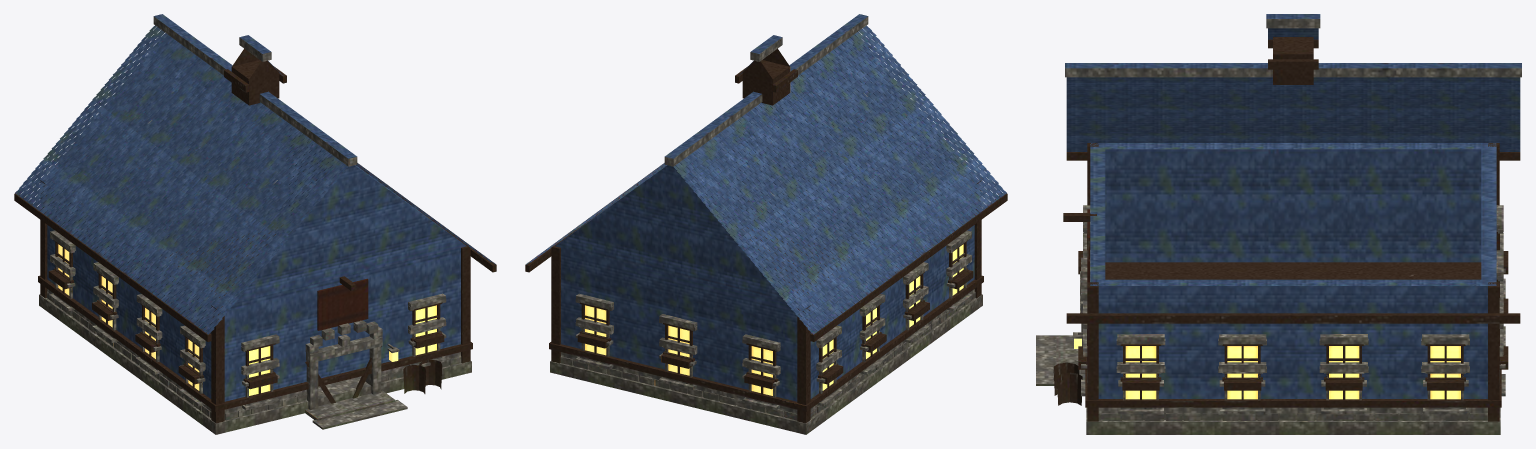
File: bld_barn_card.glb
3 views of the same model, side by side, from view 1: azimuth 30°, elevation 25°; view 2: azimuth 150°, elevation 25°; view 3: azimuth 270°, elevation 25° (orthographic). The views are drawn at different scales.
Visible parts, largest first — view 1: barn_card; view 2: barn_card; view 3: barn_card.
Boxes of the visible parts, left/top/right/bottom form: barn_card: left=14, top=14, right=496, bottom=434; barn_card: left=525, top=14, right=1007, bottom=434; barn_card: left=1036, top=14, right=1521, bottom=434.
Bounding box in the file's own units: 19.65 × 19.19 × 24.4.
Materials: 1 (1 with a texture image).
